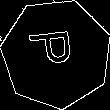P_E: (30, 32, 83, 75)
